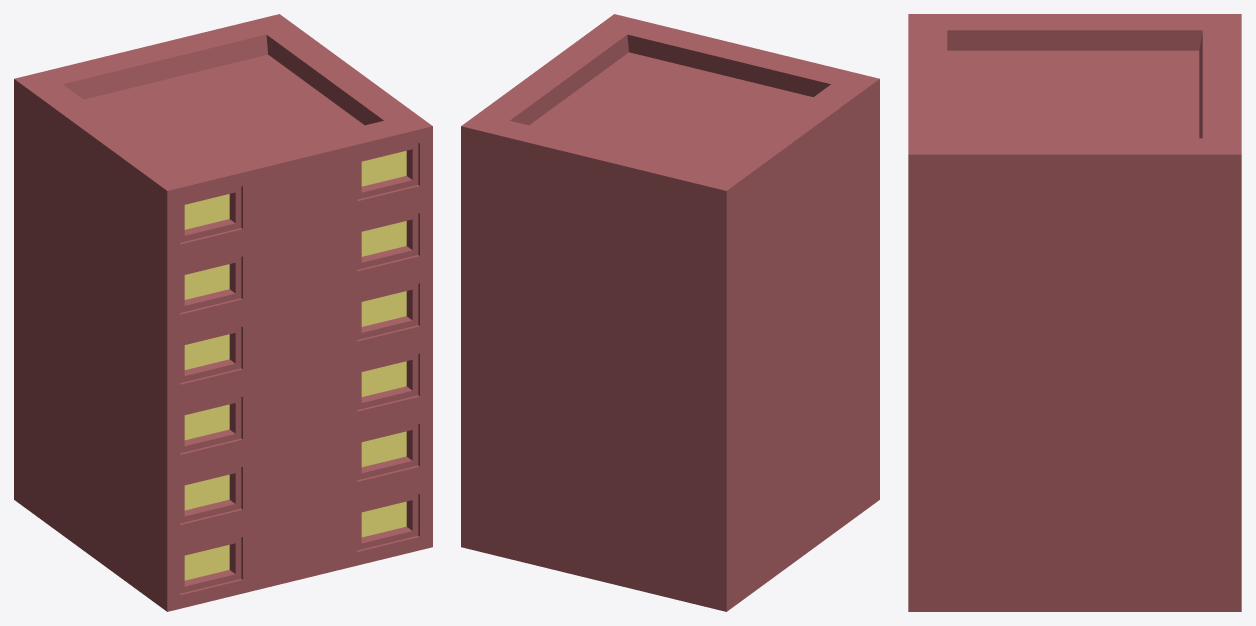
File: FillBuilding 1.fbx
3 renders of one model, left to right at view 1: azimuth 30°, elevation 25°; view 2: azimuth 150°, elevation 25°; view 3: azimuth 270°, elevation 25°, orthographic. The views are drawn at different scales.
Visible parts, largest first — view 1: Cube.030; view 2: Cube.030; view 3: Cube.030.
Part boxes in pixels (box(x1,y1,x2,y2)): Cube.030: box(14, 14, 432, 611); Cube.030: box(461, 14, 879, 611); Cube.030: box(908, 14, 1241, 611).
Size of the model in its own units: 594 by 900 by 594.
